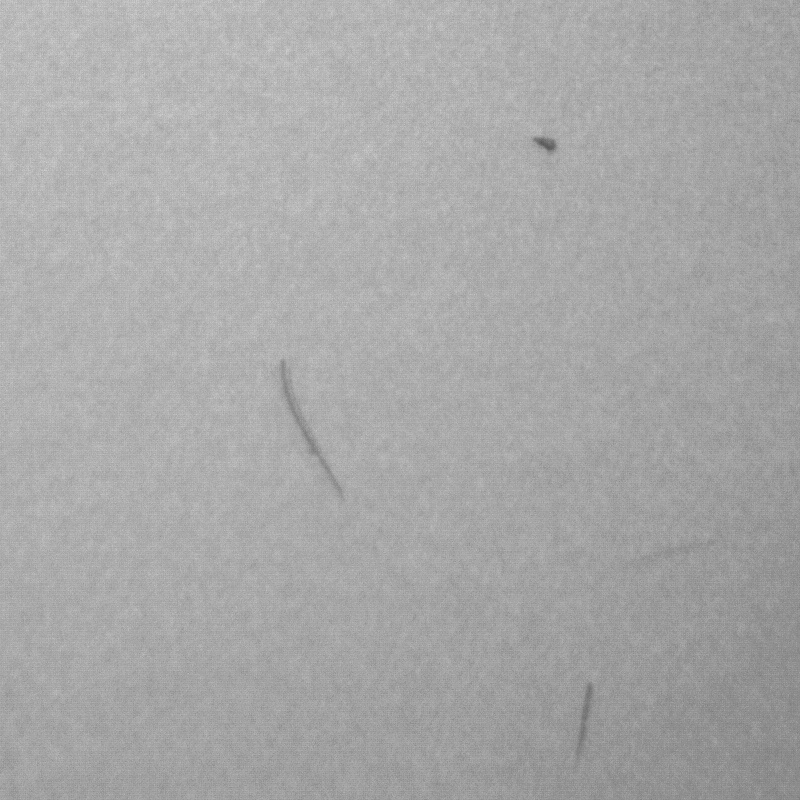defect: (275, 356, 353, 504), (570, 679, 601, 774), (531, 130, 559, 156)
